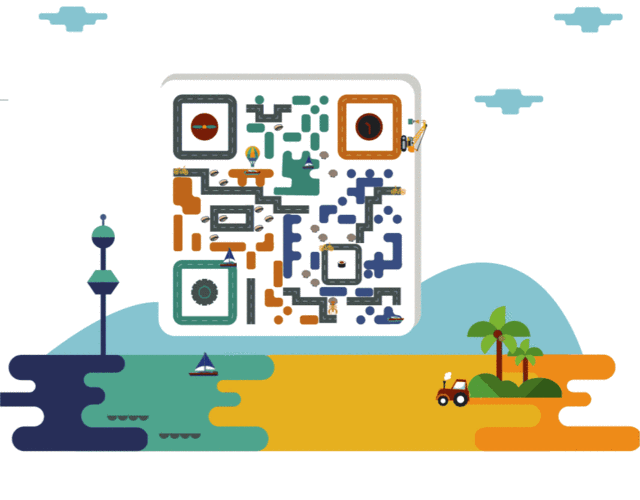QRCode: (163, 87, 413, 328)
